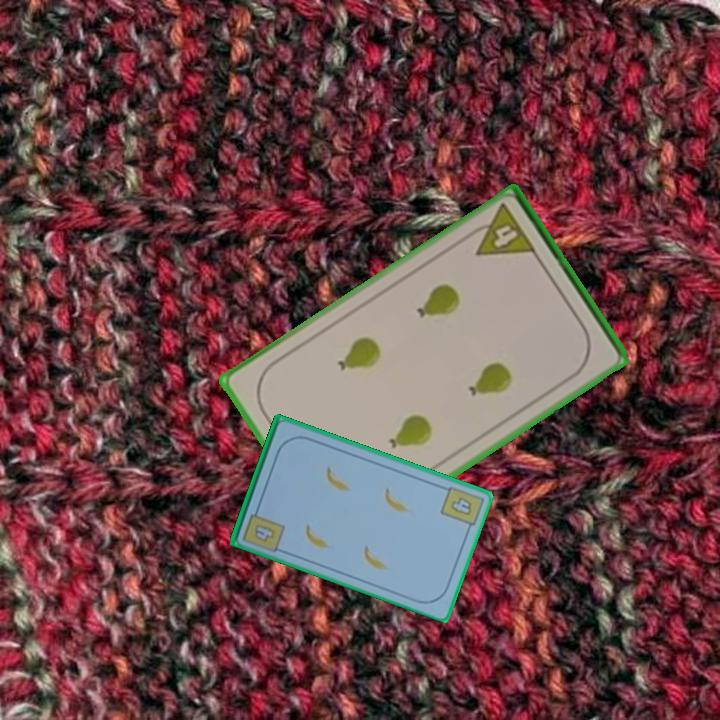4b: (437, 482, 485, 535), (251, 520, 278, 545)
4p: (462, 200, 539, 260)
